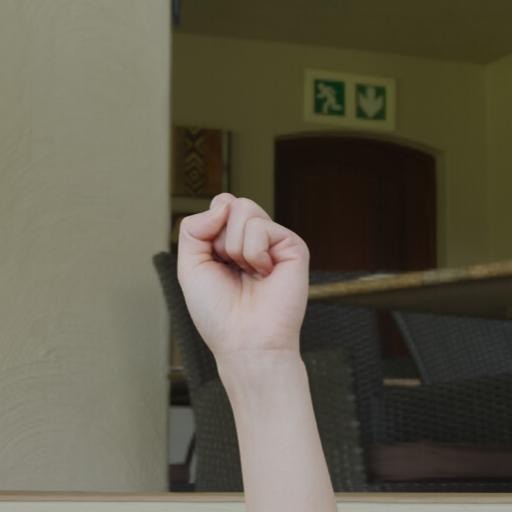R: (166, 186, 316, 367)
